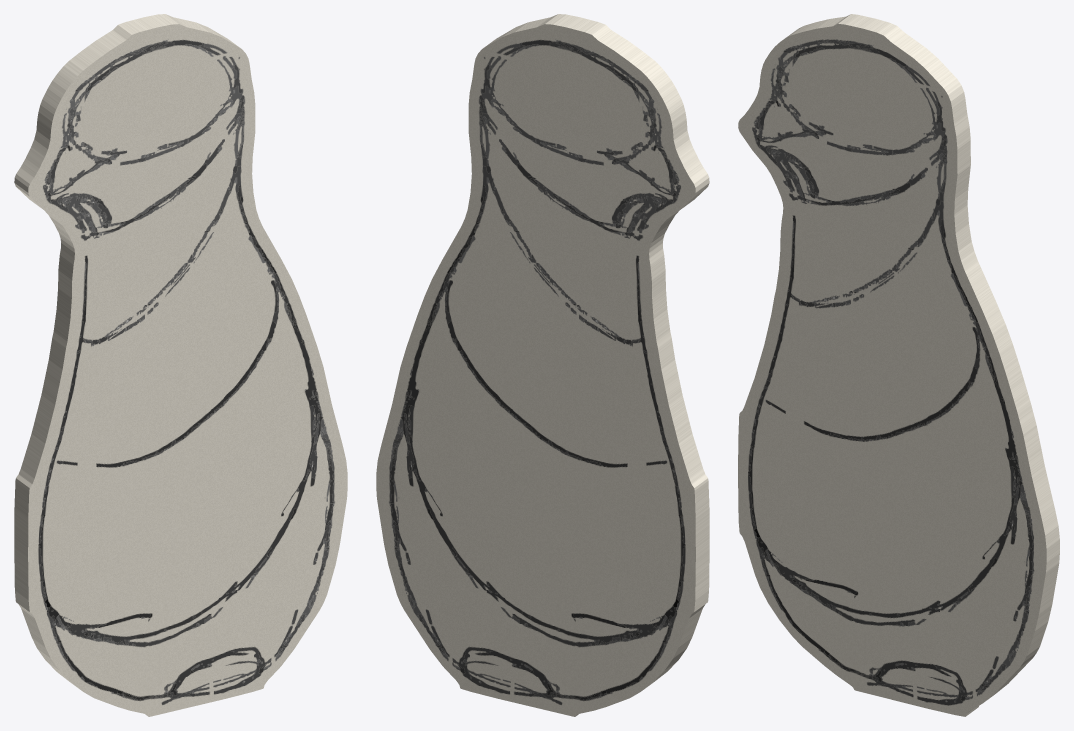
File: drawing11_bottle_2mm.glb
The picture shows the model from 3 angles, left to right: view 1: azimuth 30°, elevation 25°; view 2: azimuth 150°, elevation 25°; view 3: azimuth 330°, elevation 25°; orthographic projection. The views are drawn at different scales.
Parts seen in each view (by area): view 1: geometry_0; view 2: geometry_0; view 3: geometry_0.
Part boxes in pixels (x1,y1,x2,y2): geometry_0: (14,14,347,716); geometry_0: (376,14,709,716); geometry_0: (738,14,1059,716).
Size of the model in its own units: 0.0267 by 0.0549 by 0.002.
1 material, 1 textured.
